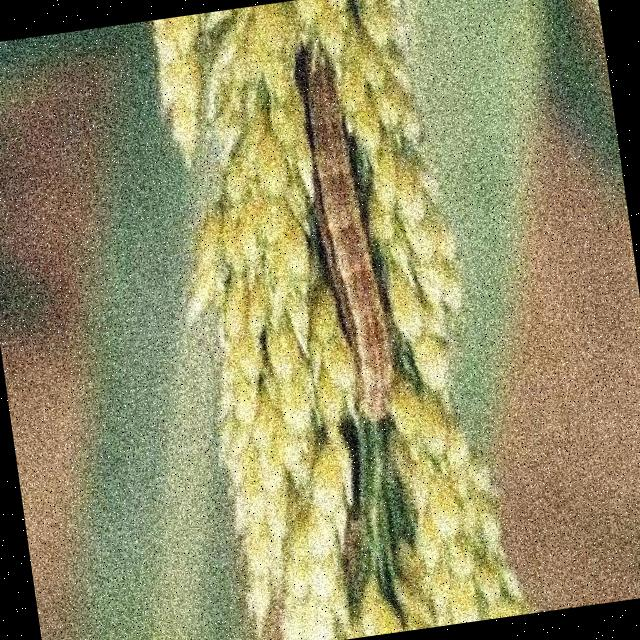worm: (274, 25, 422, 433)
